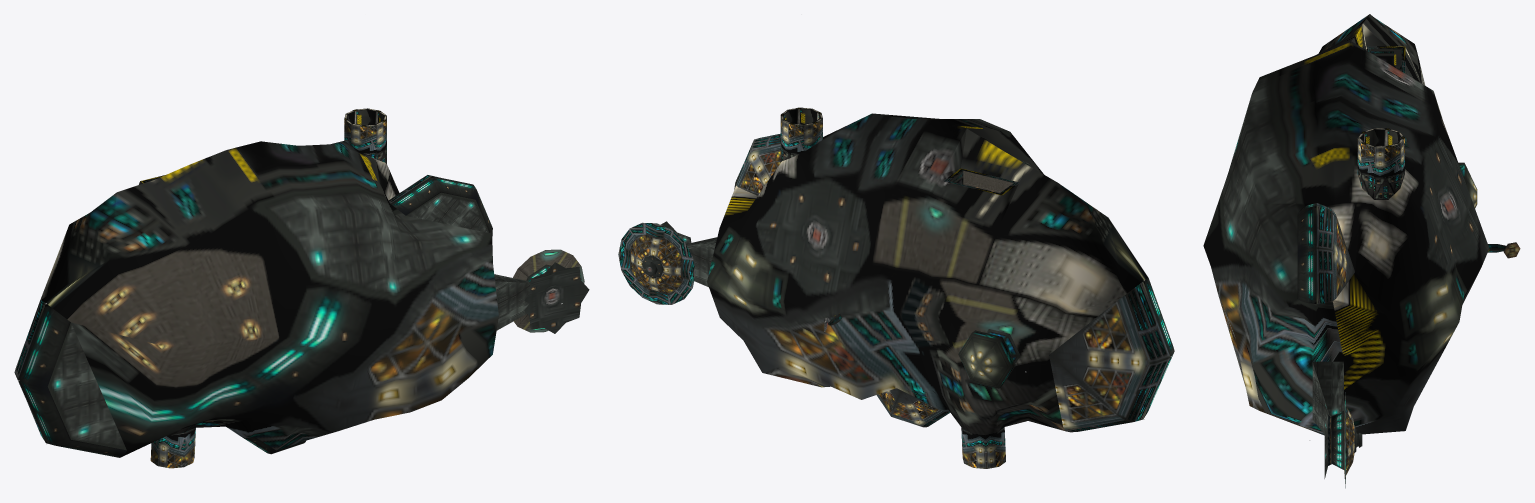
3 renders of one model, left to right at view 1: azimuth 30°, elevation 25°; view 2: azimuth 150°, elevation 25°; view 3: azimuth 270°, elevation 25°, orthographic. The views are drawn at different scales.
Parts seen in each view (by area): view 1: frm-skin2_1, frm-fuselg_1, frm-fuselg1_1, frm-fuselg_4, frm-cyl3, frm-cube1_1, frm-cyl3_1; view 2: frm-skin2_1, frm-fuselg_1, frm-fuselg1_1, frm-tfuselg2_1, frm-cyl3, frm-fuselg_4, frm-cyl3_1, frm-fuselg_5, frm-cube1_1; view 3: frm-skin2_1, frm-fuselg_4, frm-cyl3, frm-fuselg1_1, frm-cube1_1, frm-tfuselg2_1.
Boxes of the visible parts, bbox=[...] form: frm-skin2_1: bbox=[40, 141, 498, 457]; frm-fuselg_1: bbox=[14, 299, 126, 457]; frm-fuselg1_1: bbox=[513, 249, 589, 333]; frm-fuselg_4: bbox=[388, 175, 492, 232]; frm-cyl3: bbox=[344, 108, 386, 163]; frm-cube1_1: bbox=[494, 274, 530, 330]; frm-cyl3_1: bbox=[150, 428, 195, 468]; frm-skin2_1: bbox=[707, 113, 1148, 434]; frm-fuselg_1: bbox=[1049, 278, 1174, 432]; frm-fuselg1_1: bbox=[618, 221, 695, 304]; frm-tfuselg2_1: bbox=[958, 329, 1020, 388]; frm-cyl3: bbox=[780, 107, 822, 162]; frm-fuselg_4: bbox=[735, 133, 780, 195]; frm-cyl3_1: bbox=[961, 427, 1005, 468]; frm-fuselg_5: bbox=[876, 389, 950, 427]; frm-cube1_1: bbox=[686, 237, 717, 287]; frm-skin2_1: bbox=[1203, 14, 1489, 435]; frm-fuselg_4: bbox=[1297, 203, 1354, 303]; frm-cyl3: bbox=[1357, 128, 1404, 199]; frm-fuselg1_1: bbox=[1324, 392, 1362, 488]; frm-cube1_1: bbox=[1312, 361, 1343, 433]; frm-tfuselg2_1: bbox=[1458, 162, 1477, 208].
Size of the model in its own units: 74.84 by 54.83 by 33.89.
